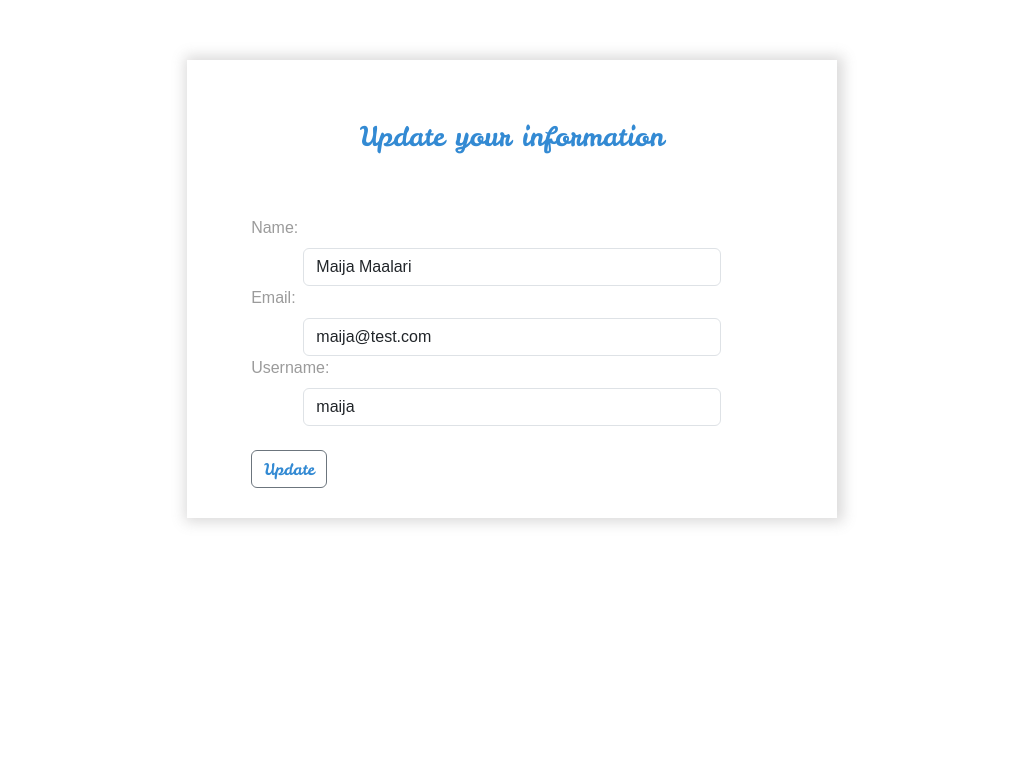
Test: UpdateUserForm — validation › shows error when name is too short
The image size is (1024, 768).
Replace the text in the 1st field showing "Maija Maalari" with "Ab": (512, 267) 303,248 -> 721,286
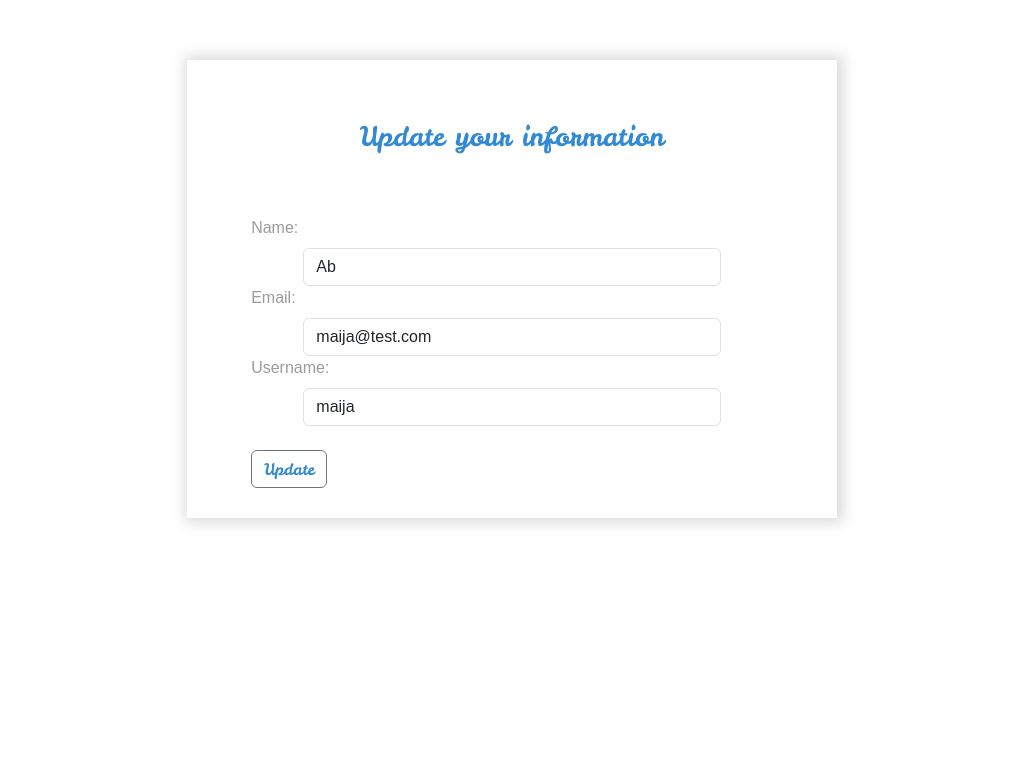
Submit the form "Name: Email: Username: Update", box 251,216 -> 773,488
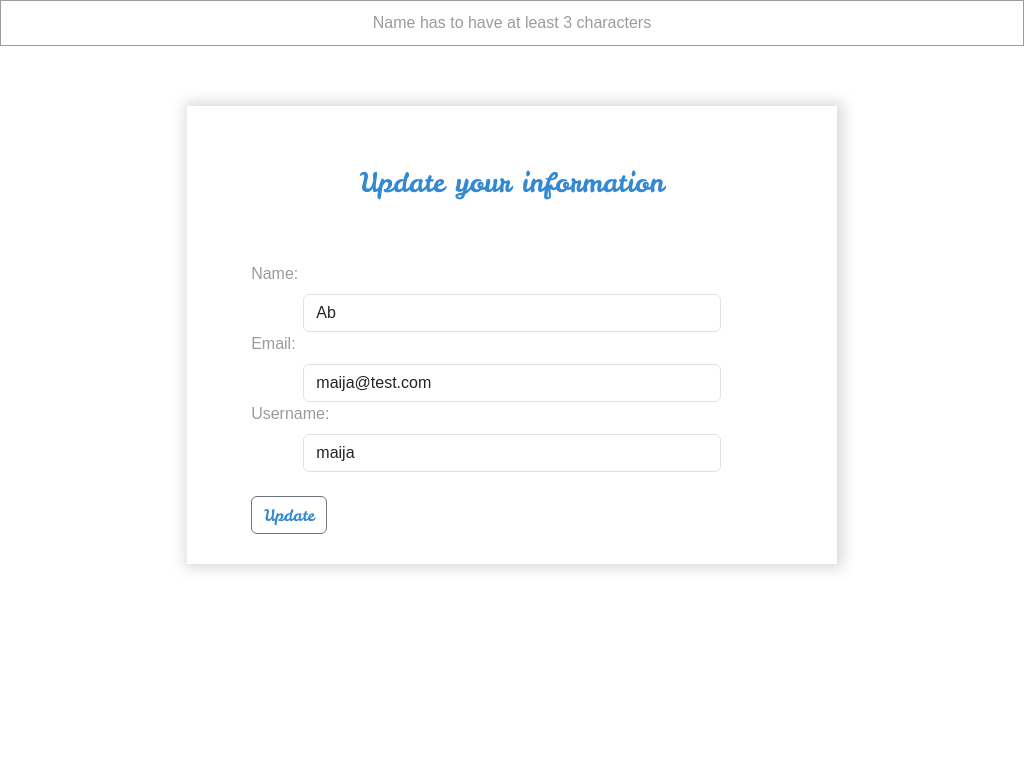
Result: the text "Name has to have at least 3 characters" is shown at 0,0 -> 1023,46
